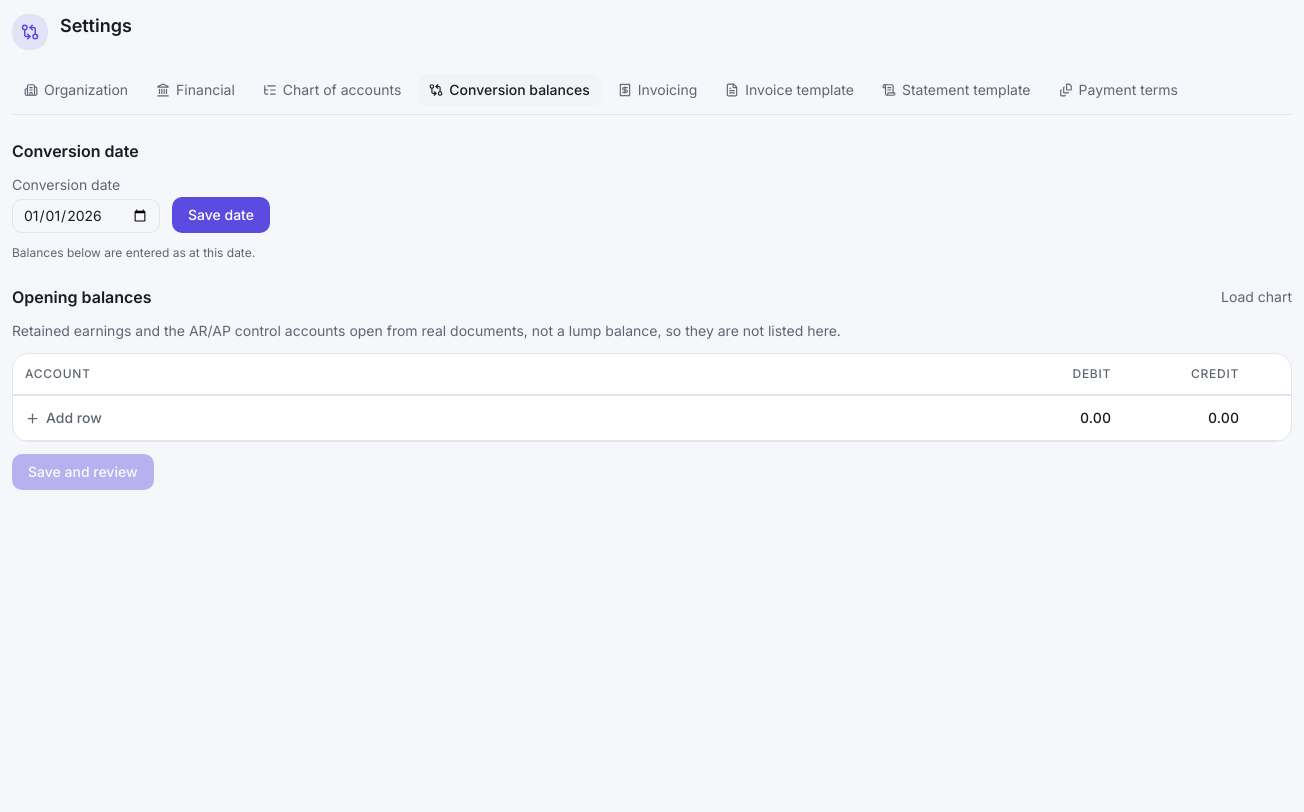
Test: ConversionBalancesPage › an unbalanced grid disables Save and review and shows the exact cent difference
This screenshot has width=1304, height=812.
Click the button "Add row".
click(63, 418)  # box [25,408,102,428]
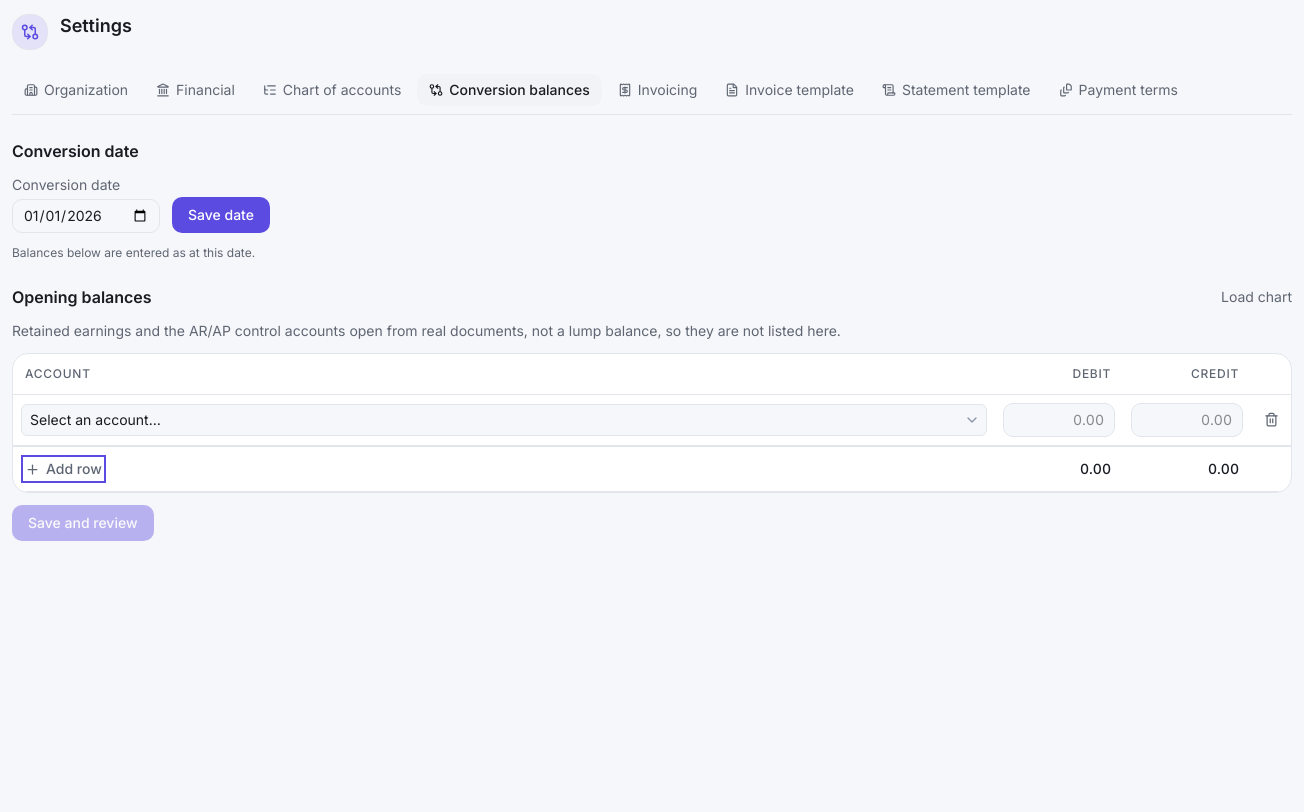
Click the button "Add row".
click(63, 469)  # box [25,459,102,479]
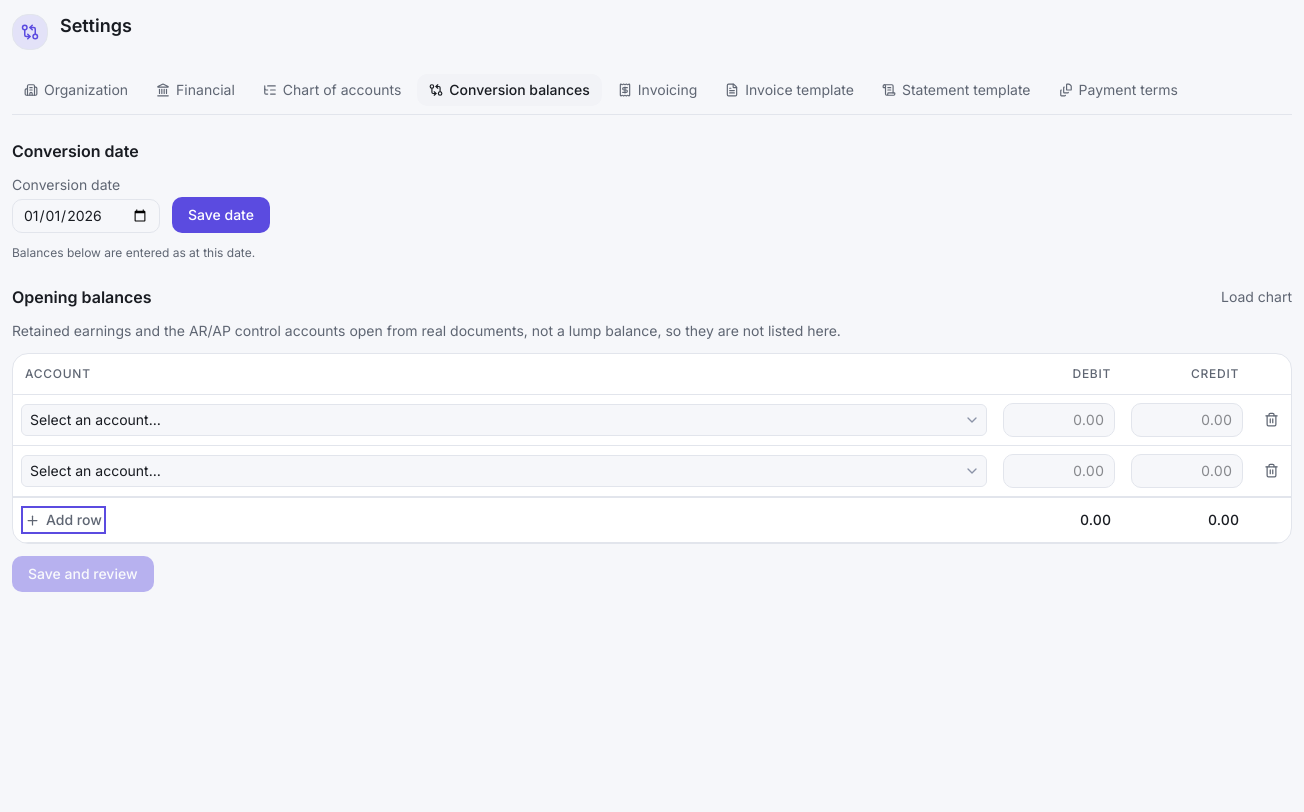
Select "1110 · Operating Cash" in the dropdown named "Account for row 1" at (504, 420), box [21,404,987,436]
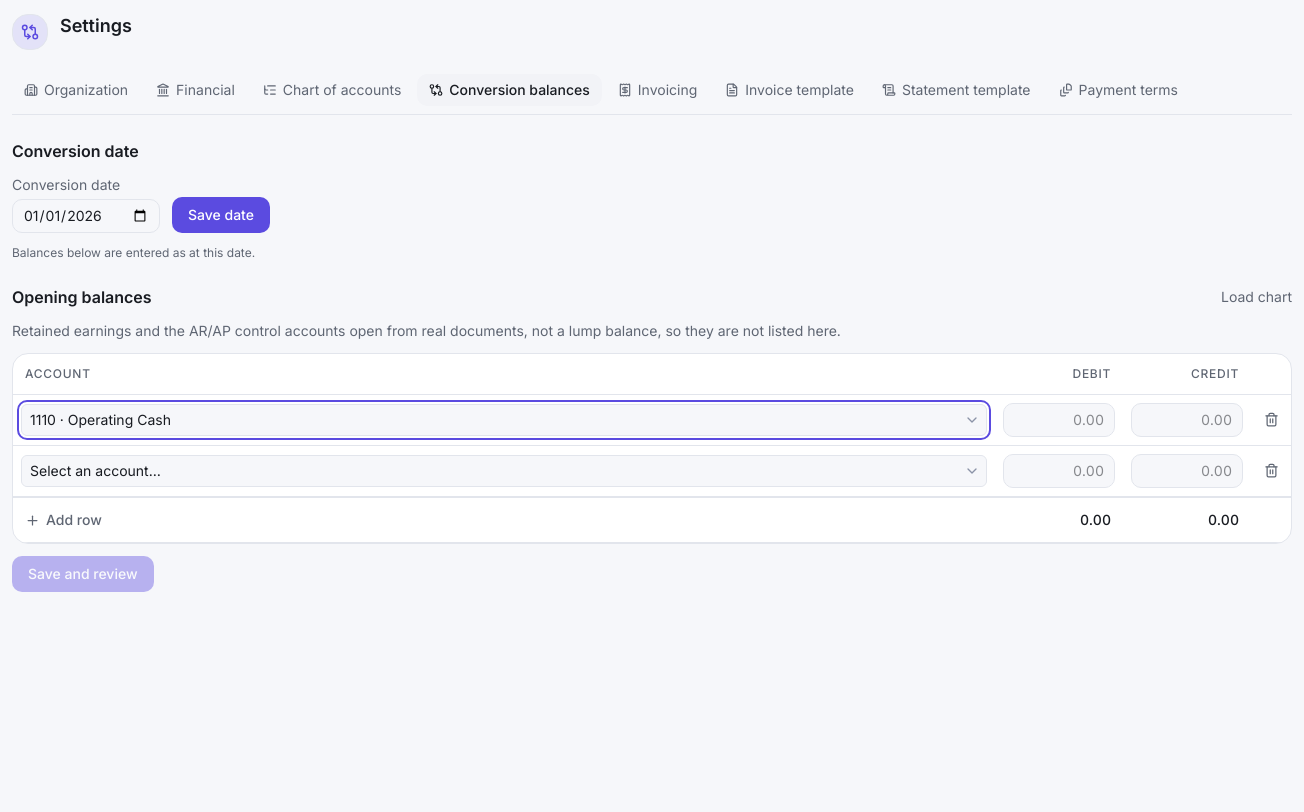
Type "1000.00" into the field named "Debit for row 1".
click(1059, 420); type("1000.00")  # box [1003,403,1115,437]
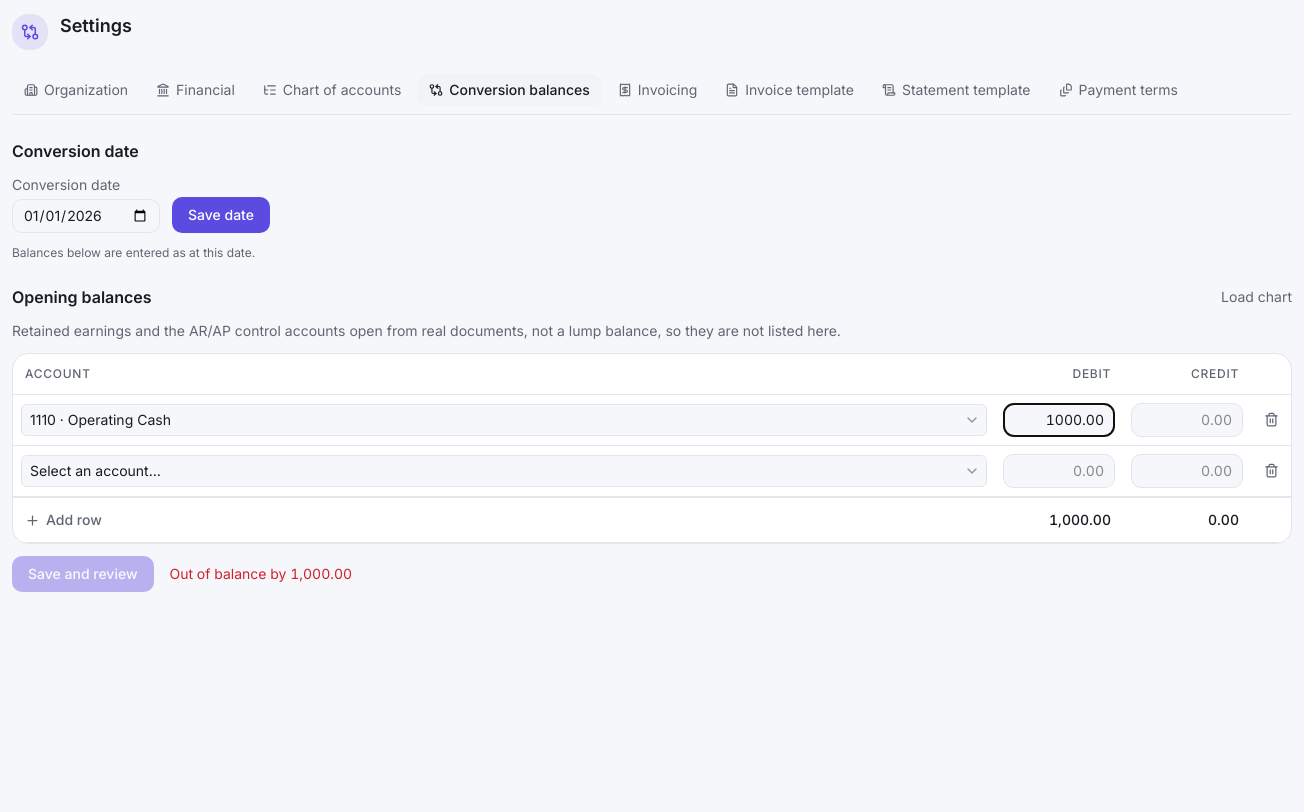
Select "4100 · Sales Revenue" in the dropdown named "Account for row 2" at (504, 471), box [21,455,987,487]
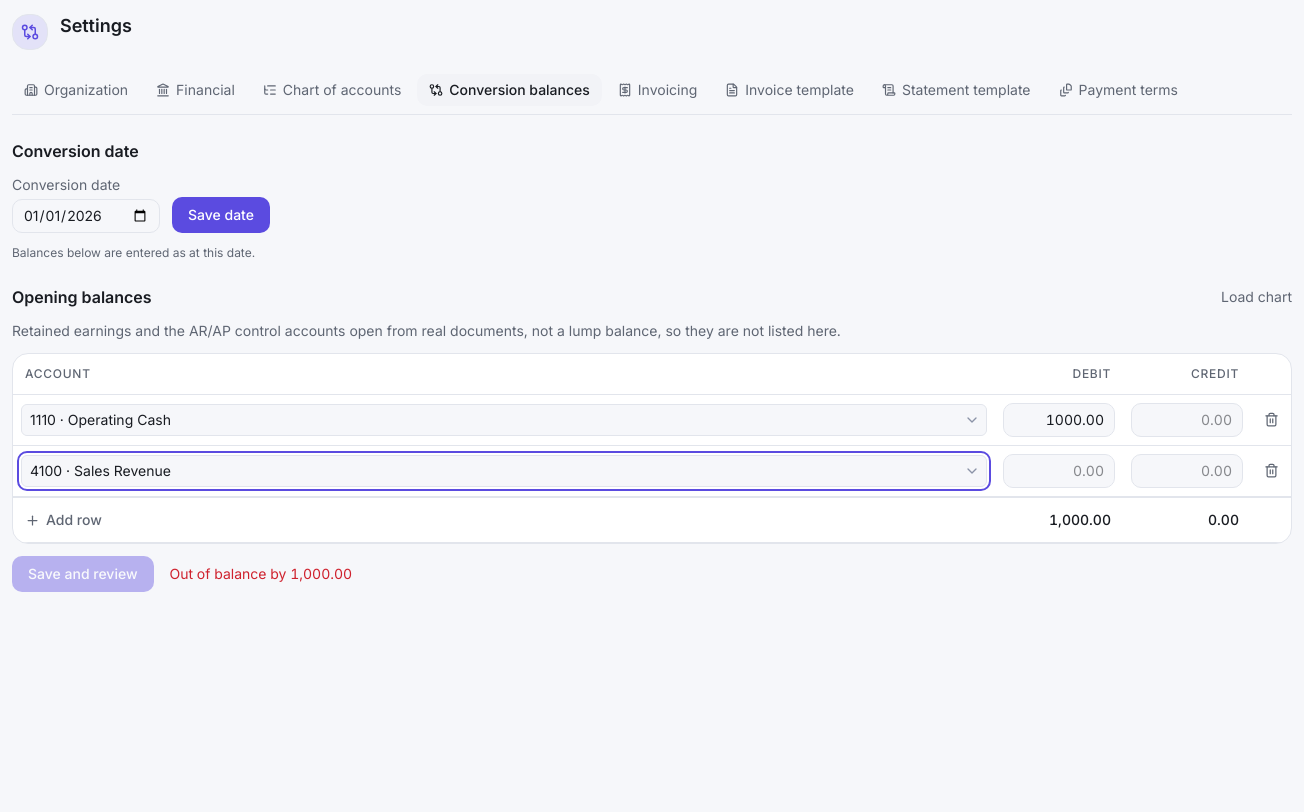
Type "999.99" into the field named "Credit for row 2".
click(1187, 471); type("999.99")  # box [1131,454,1243,488]
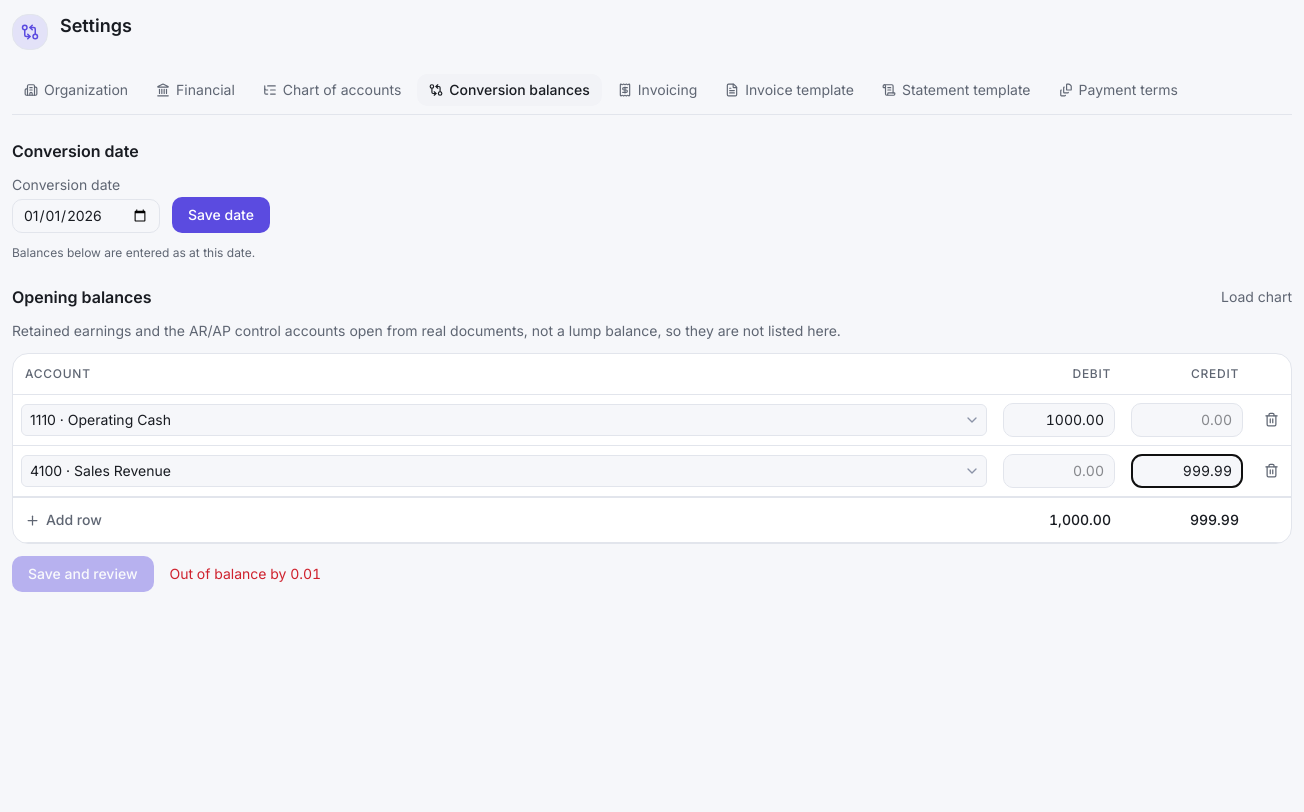
Expected: the button "Save and review" is disabled, [12,556,154,592]
Now the text "Out of balance by 0.01" is shown, box [170,564,321,584]
